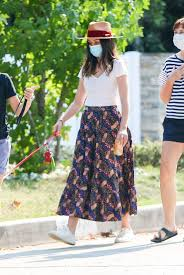mask: (88, 43, 103, 57), (172, 33, 184, 49)
